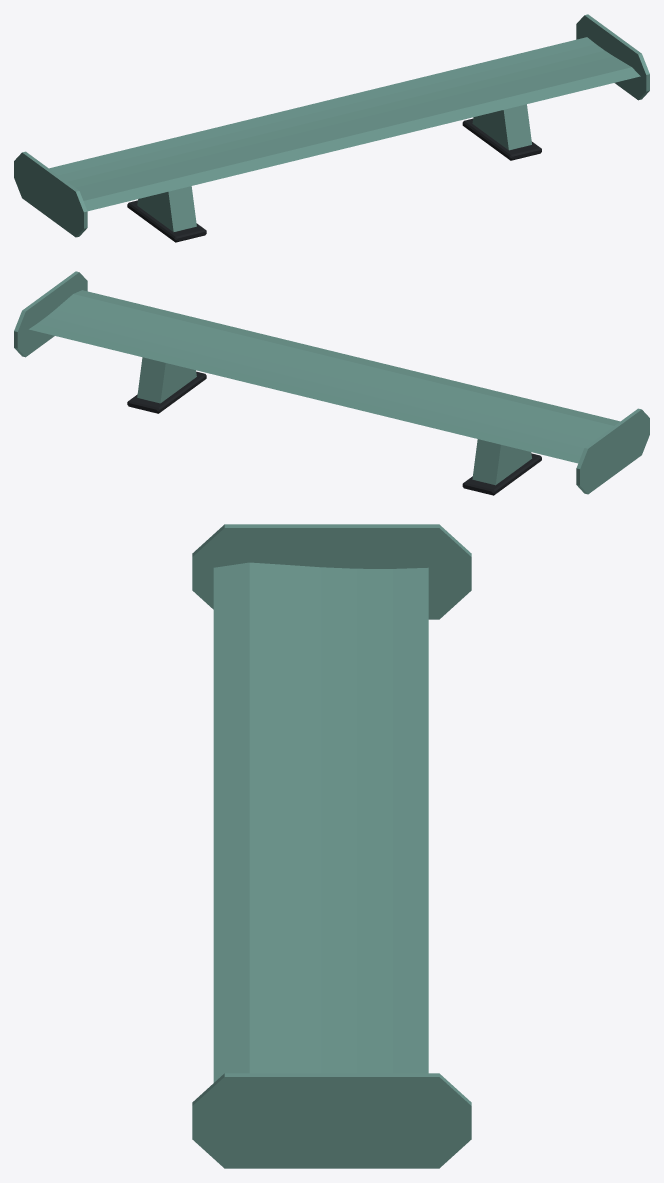
Rendered from hana_roadster_wing.glb.
3 renders of one model, top to bottom at view 1: azimuth 30°, elevation 25°; view 2: azimuth 150°, elevation 25°; view 3: azimuth 270°, elevation 25°, orthographic. The views are drawn at different scales.
Visible parts, largest first — view 1: wing_element, model; view 2: wing_element, model; view 3: wing_element.
Boxes of the visible parts, <box> form: wing_element: <box>14,14,649,237</box>; model: <box>127,104,541,242</box>; wing_element: <box>14,271,649,494</box>; model: <box>127,357,541,495</box>; wing_element: <box>192,524,471,1168</box>.
Bounding box in the file's own units: 1.22 × 0.156 × 0.2599.
Materials: 2 (1 with a texture image).
